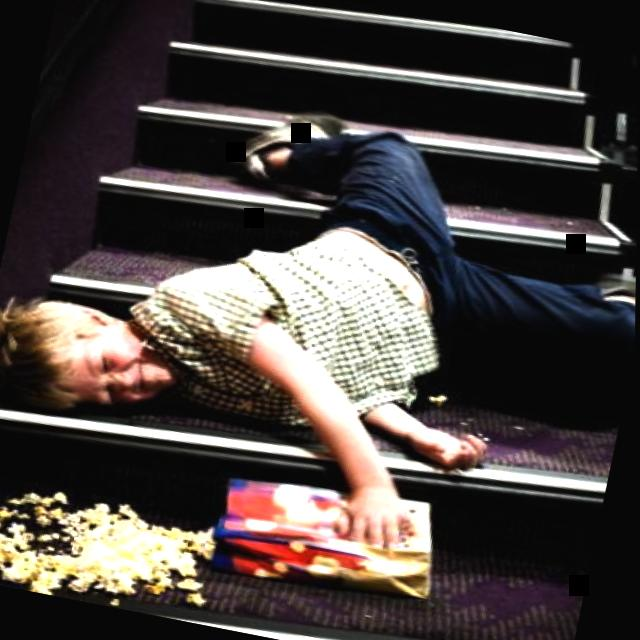Fall-Detected: (0, 25, 640, 575)
